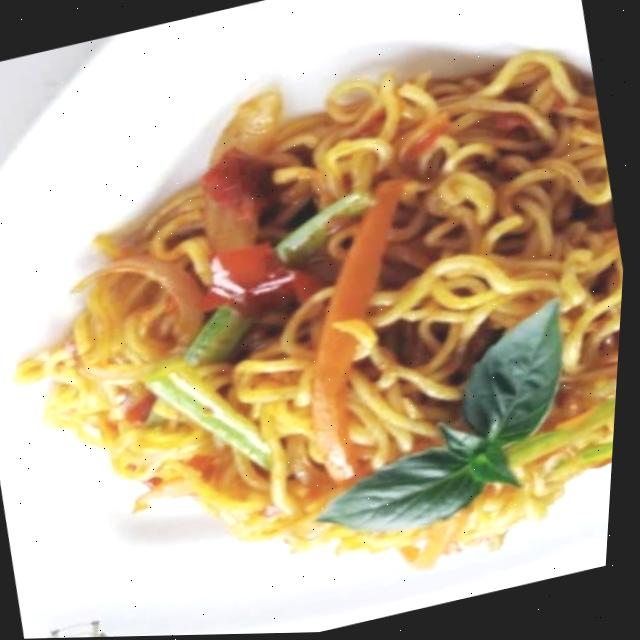面条主食: (0, 27, 638, 640)
